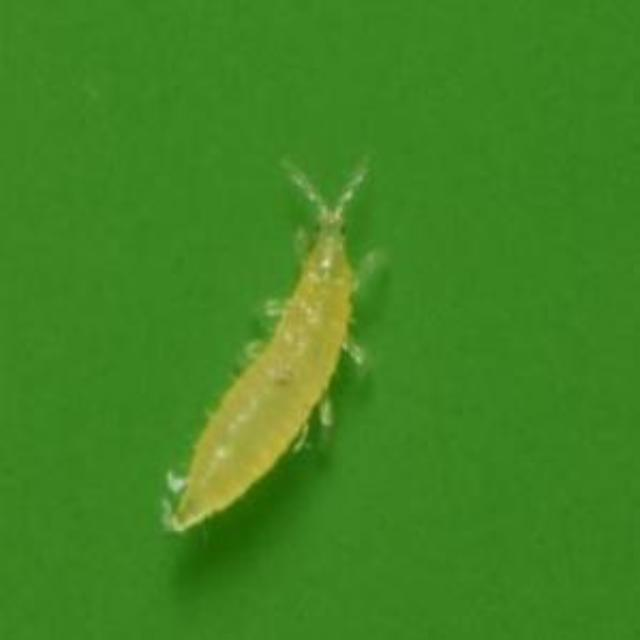melon thrips: (78, 120, 454, 558)
